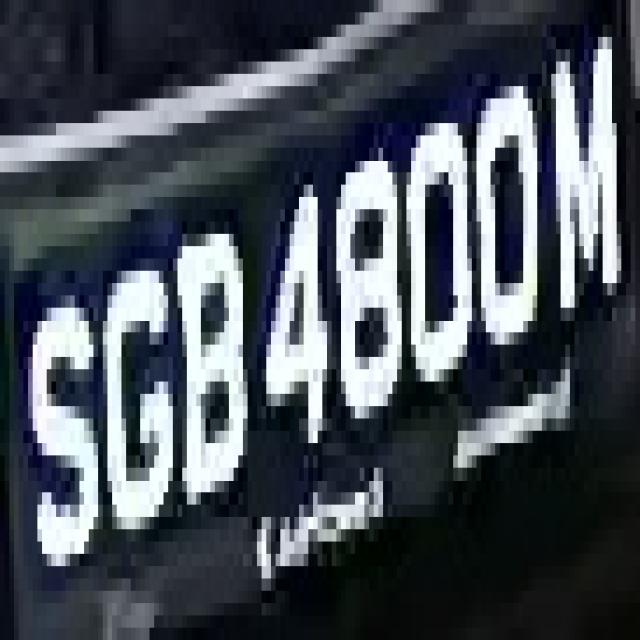0: (467, 49, 547, 345), (397, 86, 467, 406)
4: (252, 160, 332, 443)
8: (336, 110, 406, 468)
B: (173, 197, 257, 578)
G: (89, 246, 178, 554)
M: (546, 0, 626, 332)
S: (9, 258, 98, 578)
